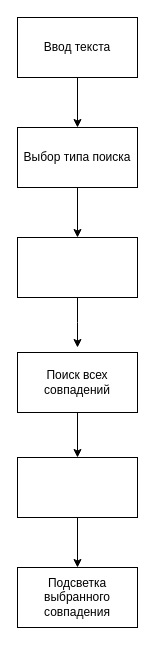
Some shapes in this 155 by 645 pixel diagram are drawn without their labels. Here are the shapes that lost their labels. From the top down, the centre of each, then its label:
At [77,267]: "Применение регулярного выражения".
At [77,487]: "Вывод: подстрока, строка, позиция, длина".
